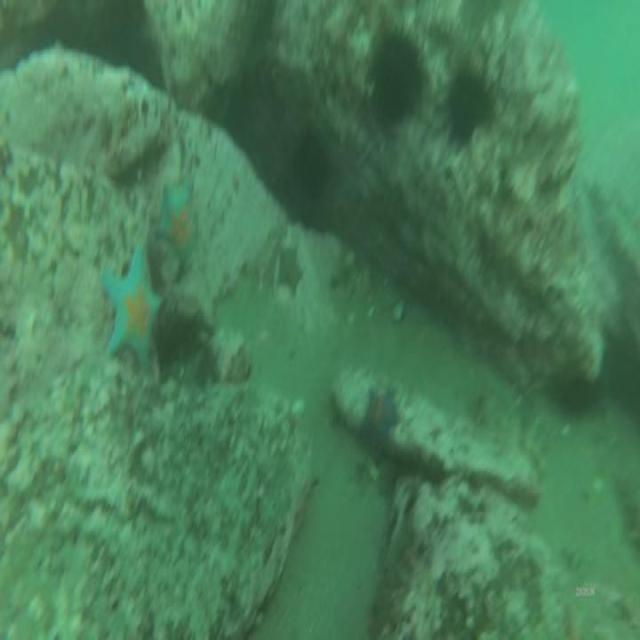echinus: (362, 24, 426, 131), (441, 46, 496, 152)
starfish: (98, 250, 164, 376), (146, 191, 204, 272), (362, 373, 402, 447), (273, 232, 306, 299)
